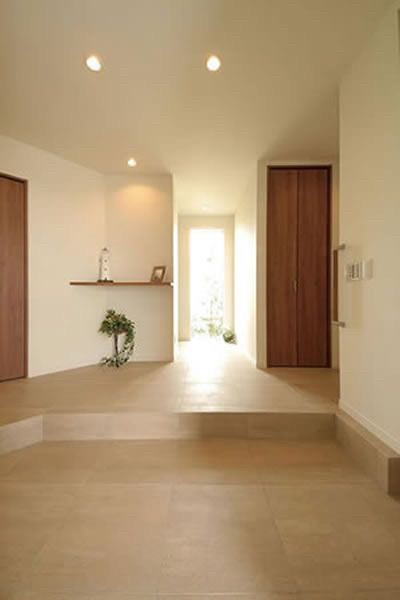floor: (0, 437, 399, 599)
